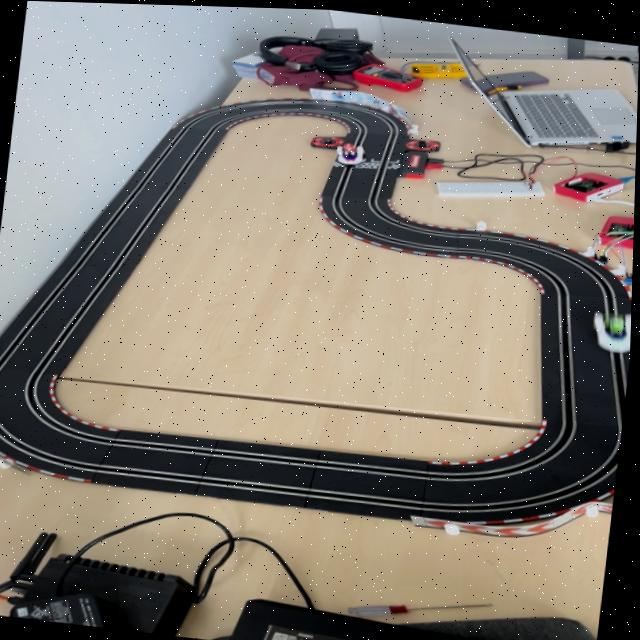mario: (332, 138, 368, 166)
yoshi: (585, 303, 633, 352)
